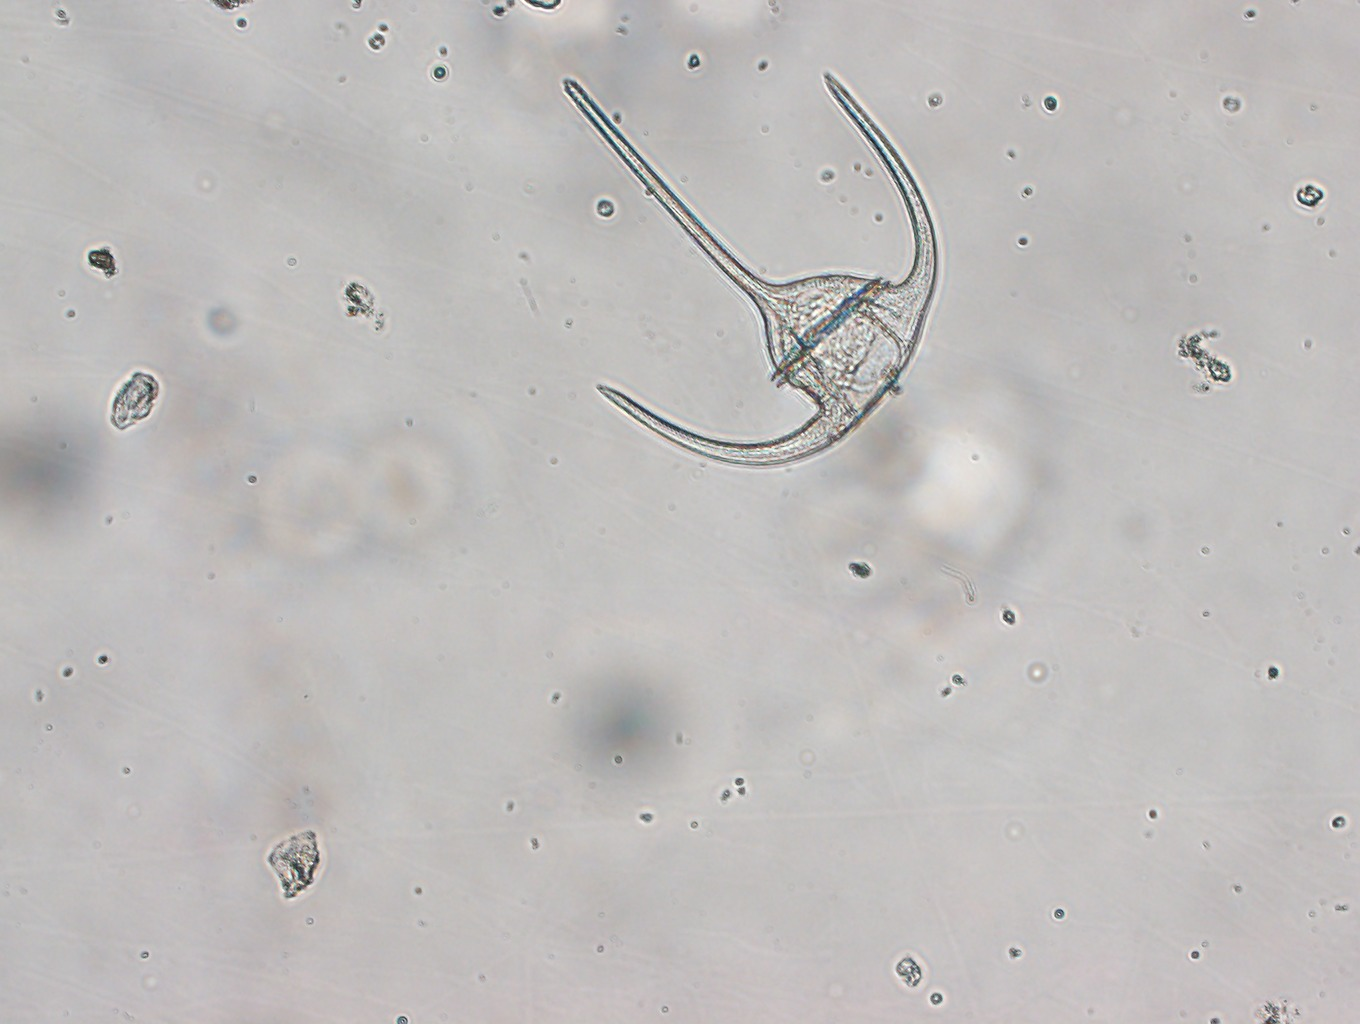ceratium tripos: (550, 68, 946, 469)
